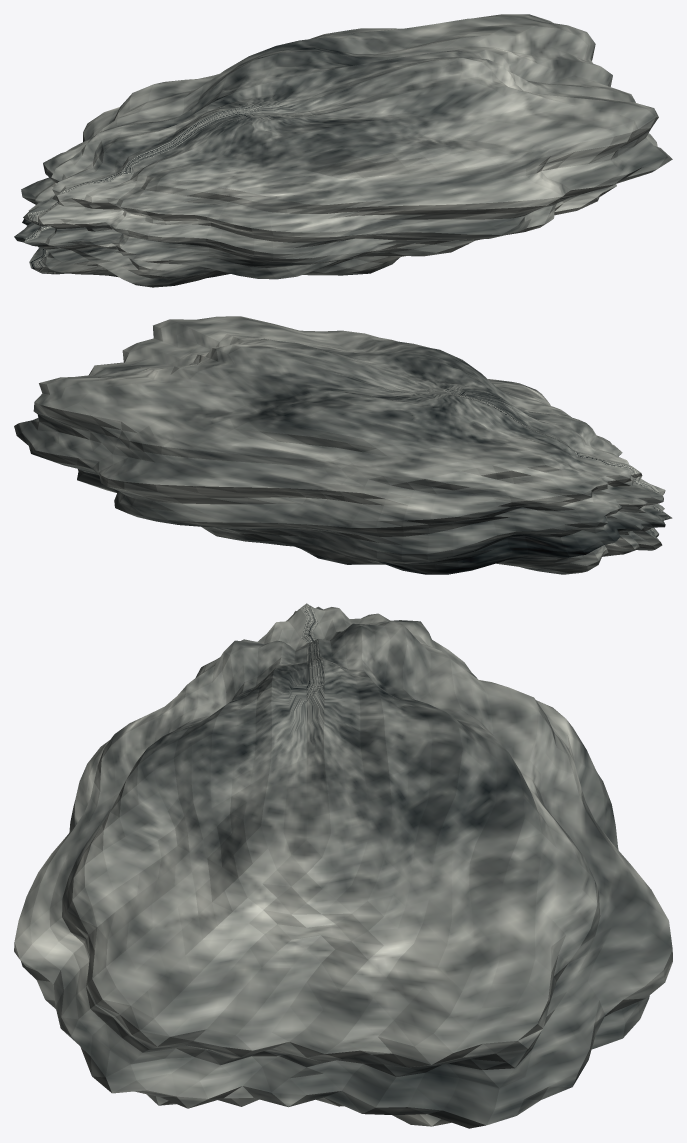
The model's file is shard.glb.
The picture shows the model from 3 angles, top to bottom: view 1: azimuth 30°, elevation 25°; view 2: azimuth 150°, elevation 25°; view 3: azimuth 270°, elevation 25°; orthographic projection. The views are drawn at different scales.
Parts seen in each view (by area): view 1: rock; view 2: rock; view 3: rock.
Boxes of the visible parts, left/top/right/bottom form: rock: left=14, top=14, right=672, bottom=287; rock: left=14, top=316, right=672, bottom=574; rock: left=14, top=603, right=672, bottom=1128.
Bounding box in the file's own units: 25.91 × 6.23 × 15.46.
Materials: 1 (1 with a texture image).
